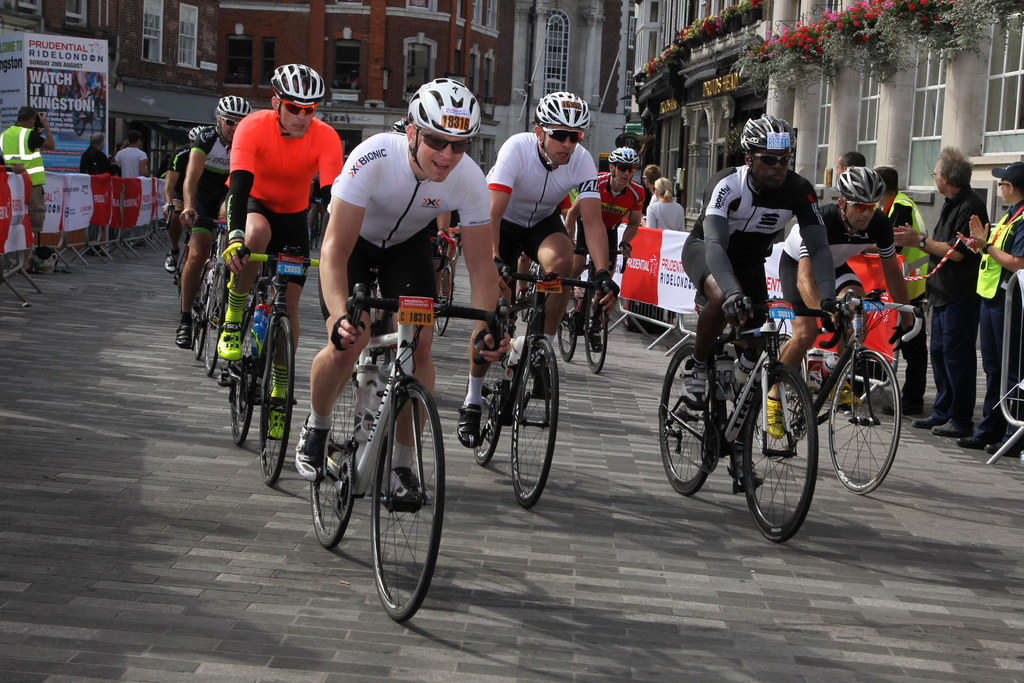Bike: (304, 313, 518, 650)
